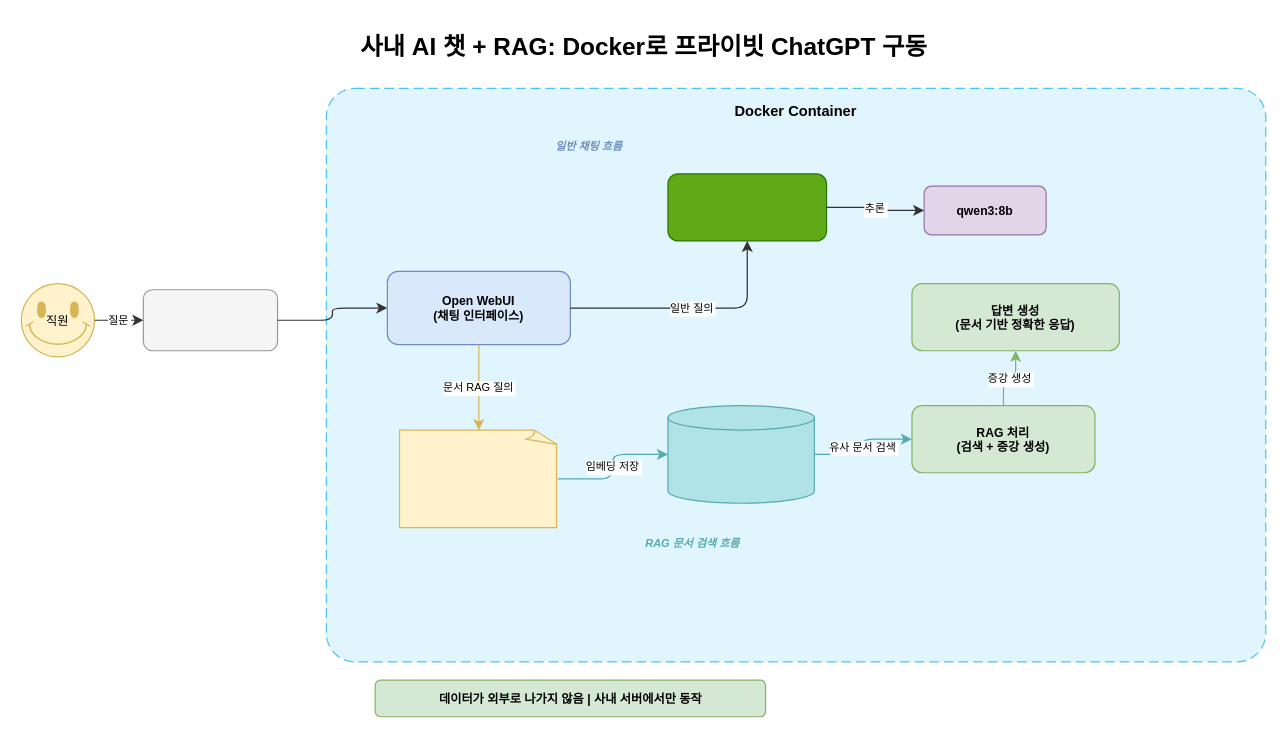
This 1287x738 diagram has some shape labels left out. The shapes that lost their labels are listed below. From the top down, each one's box as (x1, y1, x2, y2) in pixels, then its label:
(667, 173, 827, 241): Ollama (LLM 엔진)
(142, 289, 278, 351): Browser localhost:3000
(667, 404, 814, 503): Vector DB (ChromaDB)
(398, 429, 558, 528): 문서 업로드 (PDF, DOCX, TXT)
